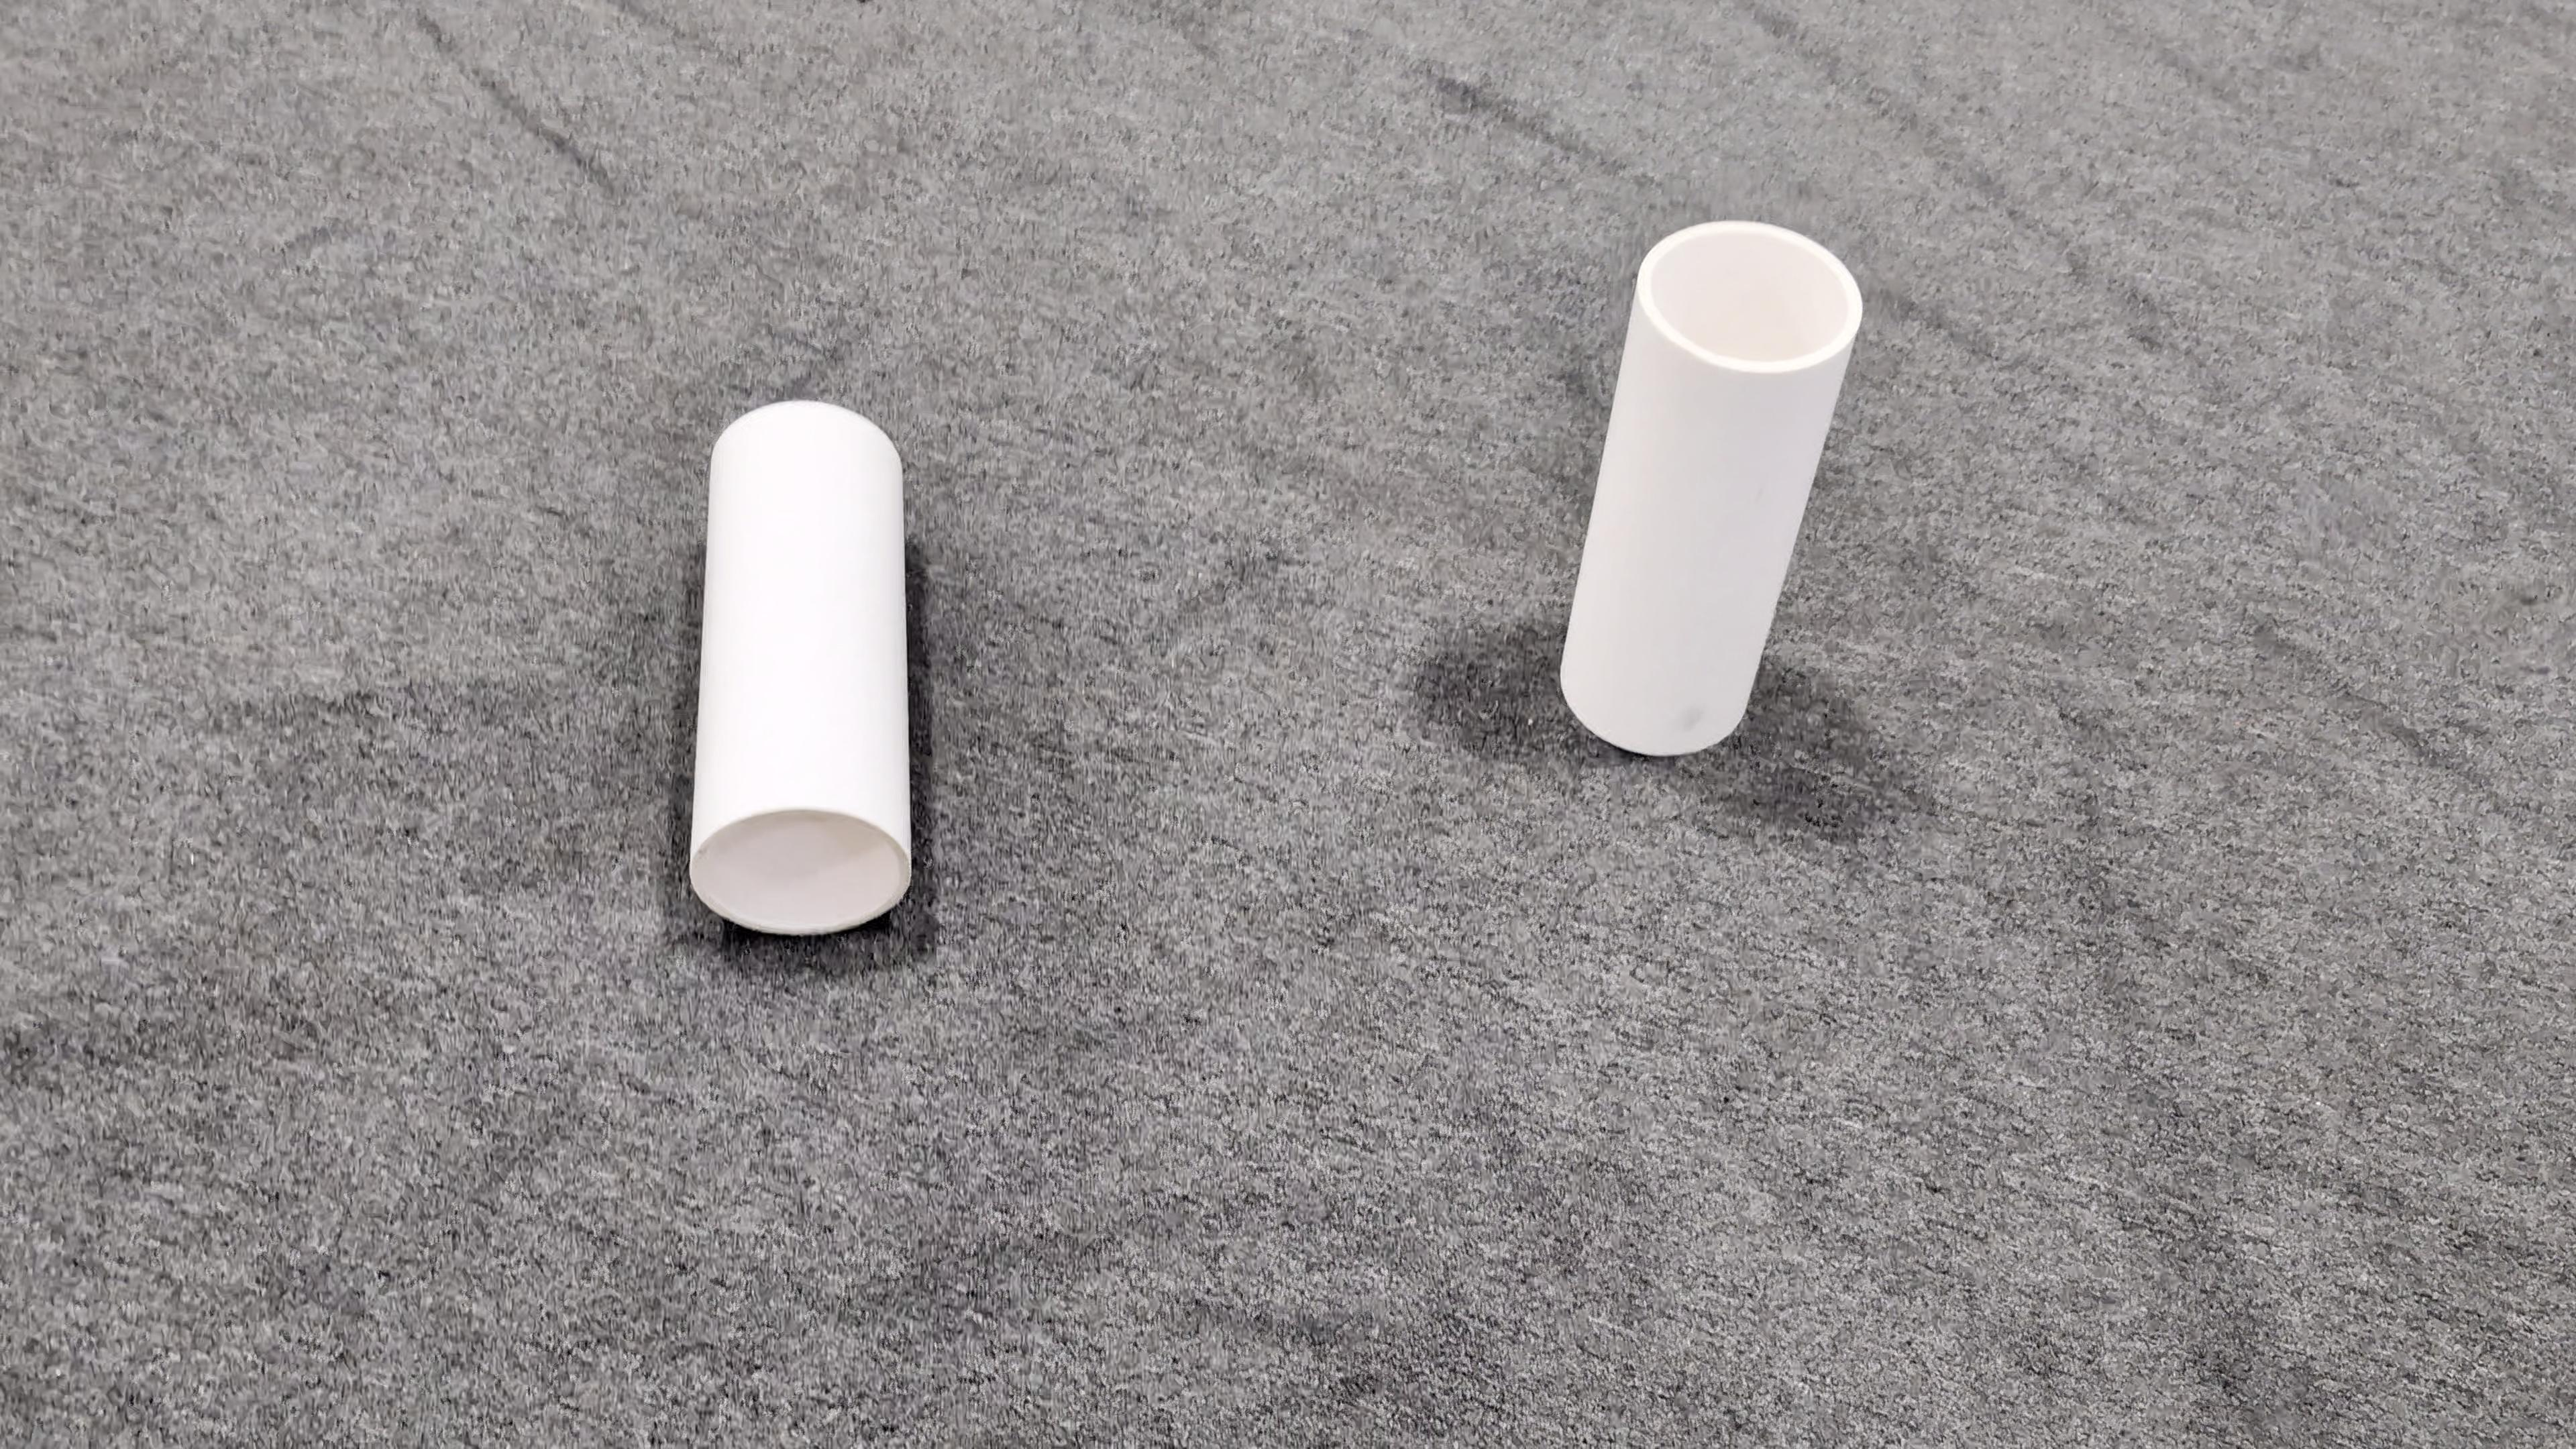coral: (1555, 218, 1863, 755), (685, 400, 916, 936)
